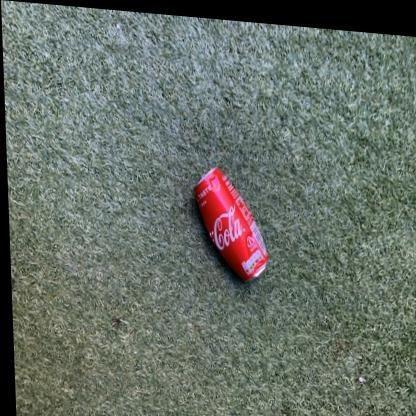trash: (194, 168, 267, 280)
